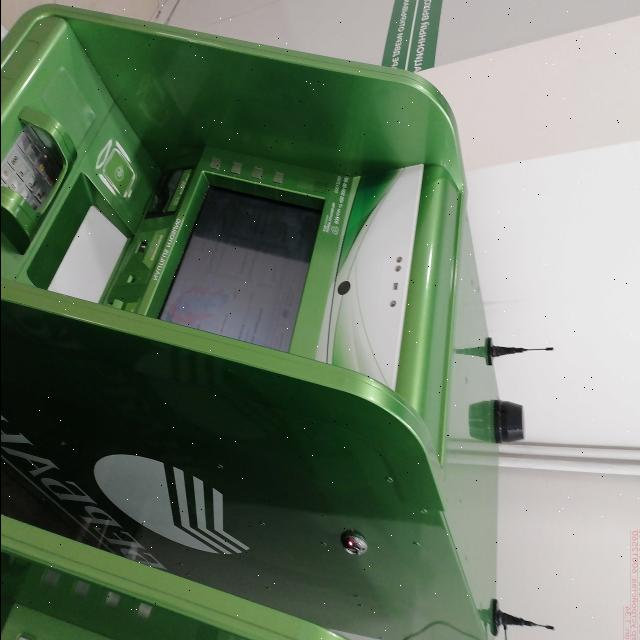bank: (0, 3, 513, 640), (0, 511, 382, 640)
